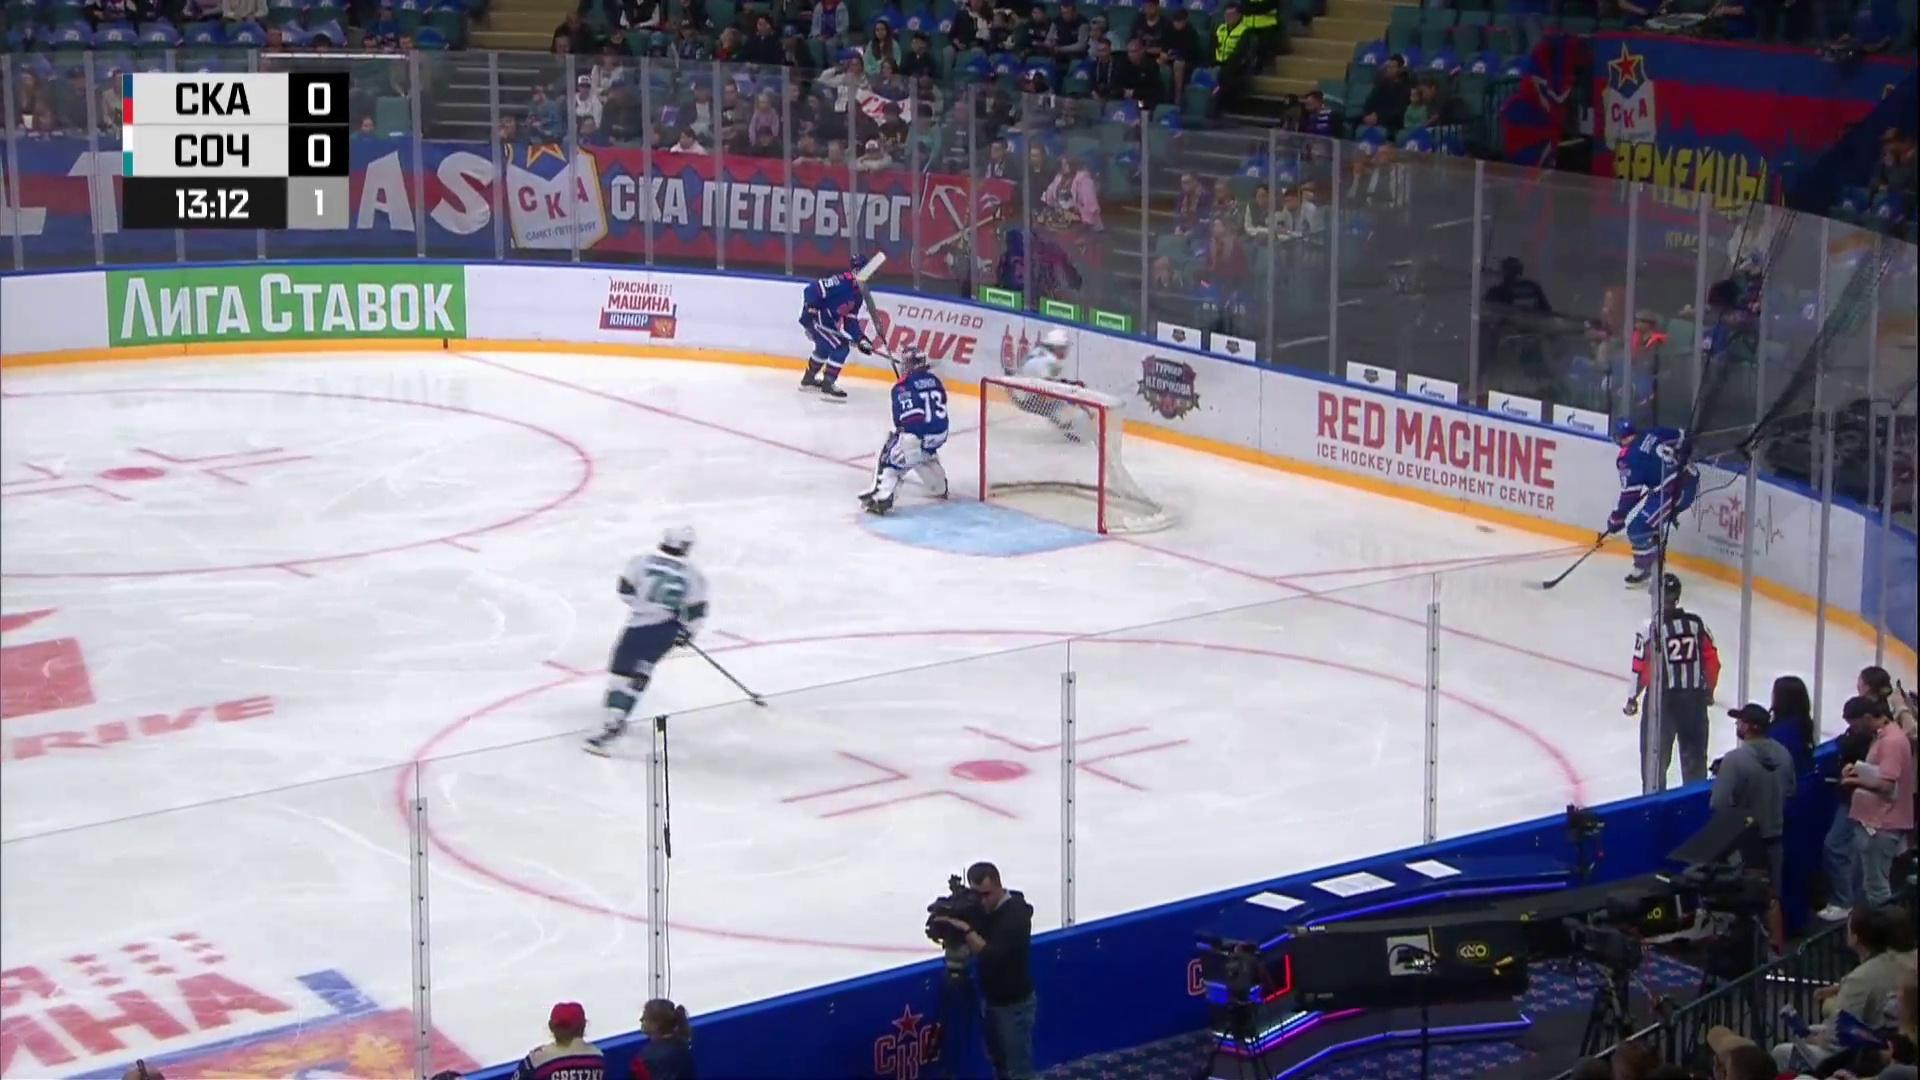ball: (1476, 525, 1495, 534)
